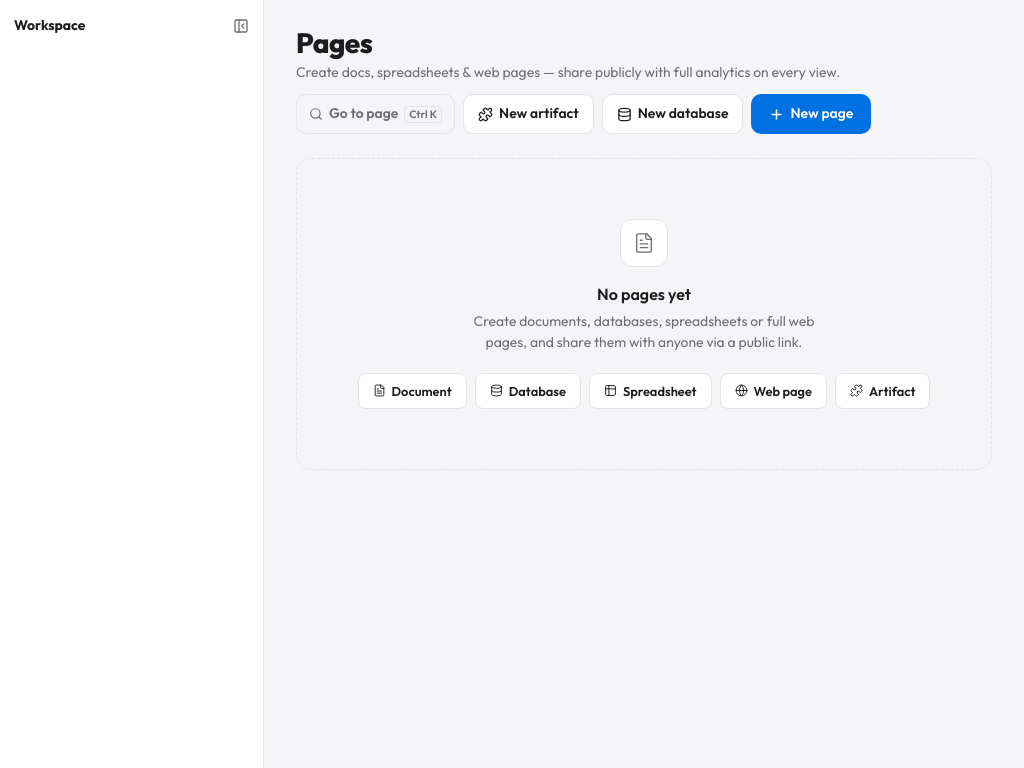
Test case: Pages editor AI composer › is offered once the permission is granted
Click the button "New page" at (811, 114), box x1=752 y1=94 x2=871 y2=134
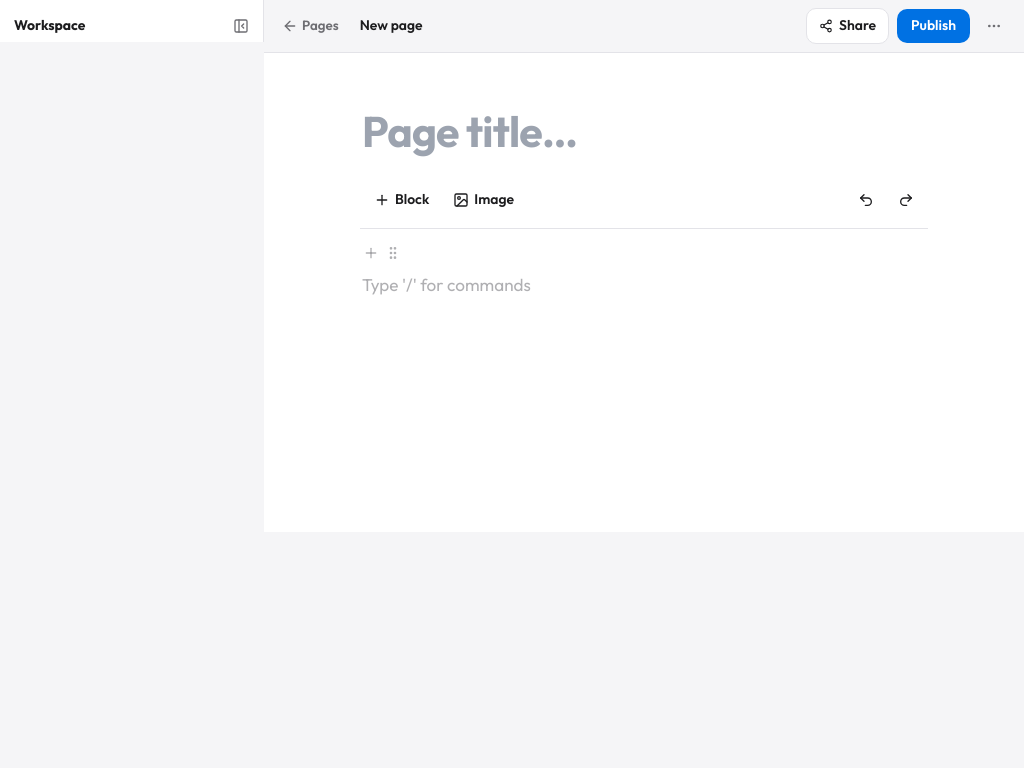
Click the button named "More page options" at (994, 26), box x1=978 y1=12 x2=1010 y2=40
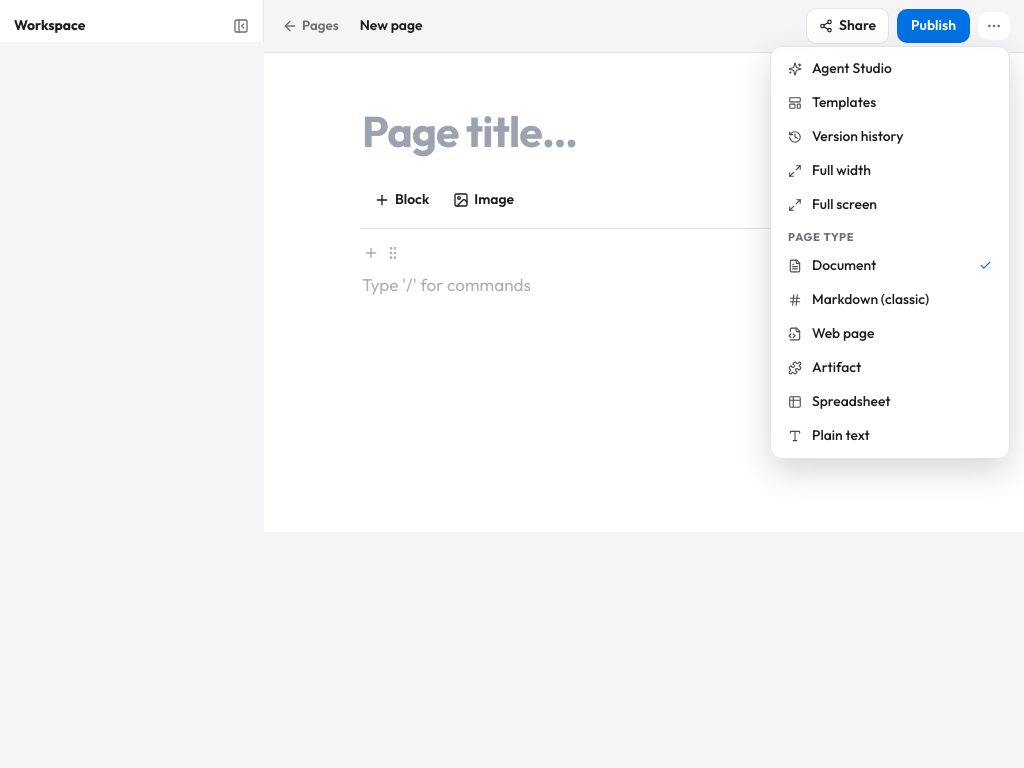
Click the menu item "Agent Studio" at (890, 69), box x1=776 y1=52 x2=1004 y2=86
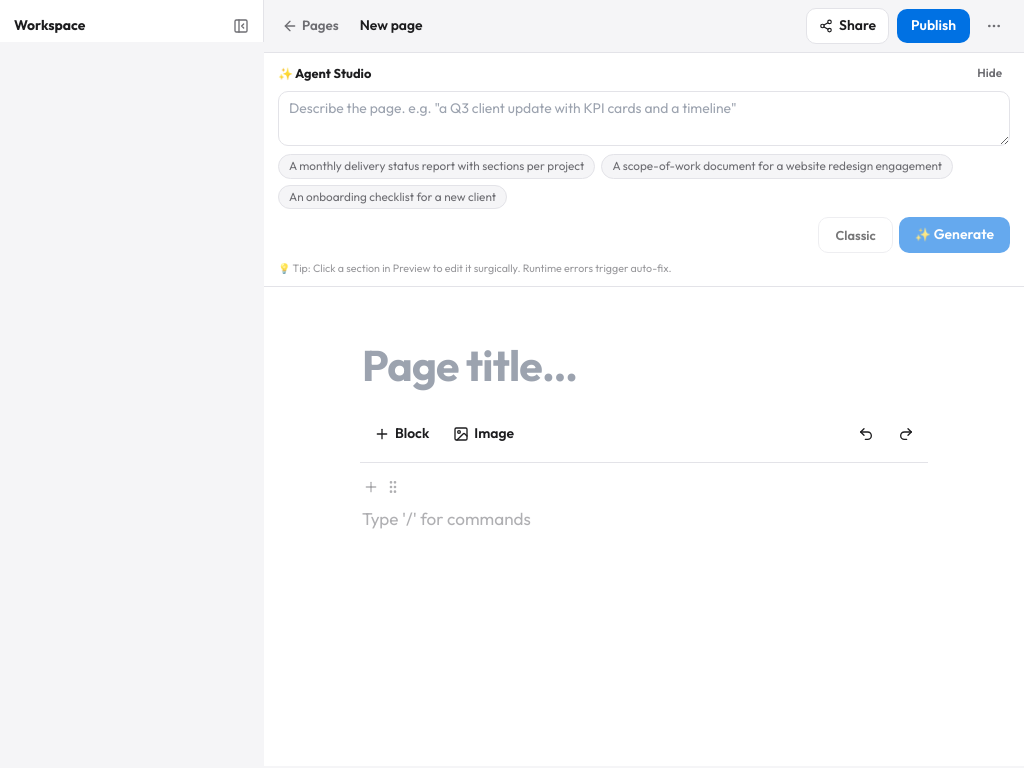
Expected: the text "✨ Agent Studio" is shown, x1=278 y1=64 x2=371 y2=82
